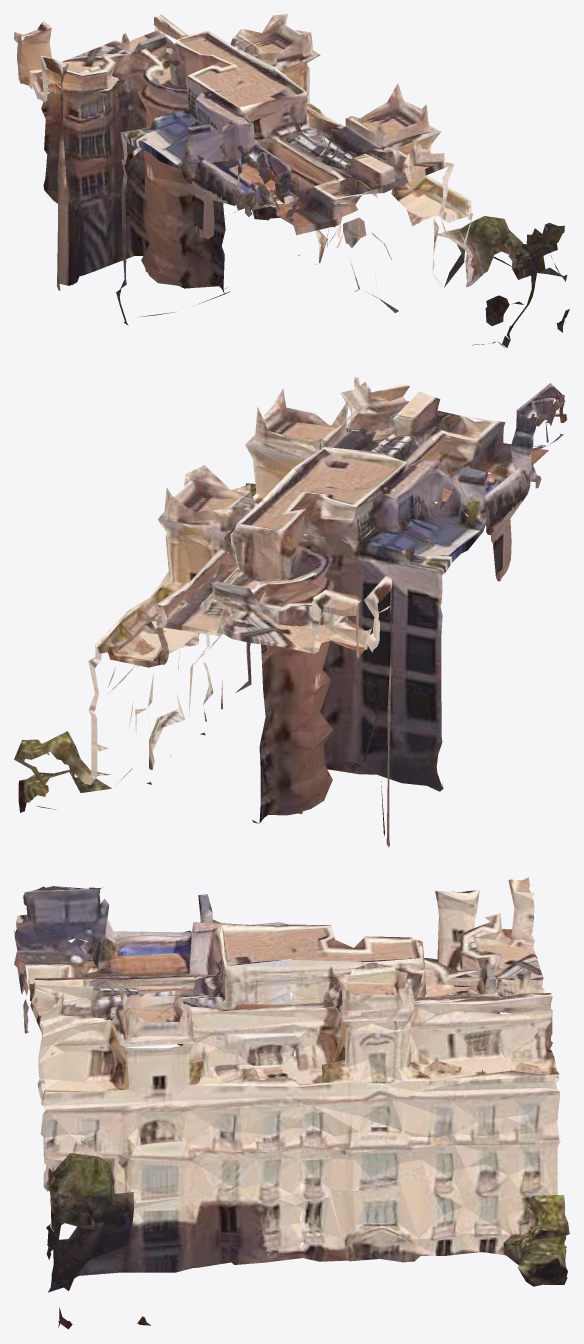
The picture shows the model from 3 angles, top to bottom: view 1: azimuth 30°, elevation 25°; view 2: azimuth 150°, elevation 25°; view 3: azimuth 270°, elevation 25°; orthographic projection. The views are drawn at different scales.
Parts seen in each view (by area): view 1: Mesh_0; view 2: Mesh_0; view 3: Mesh_0.
Boxes of the visible parts, x1,y1,x2,y2 form: Mesh_0: (14,14,569,347); Mesh_0: (14,377,567,847); Mesh_0: (14,877,569,1329).
Bounding box in the file's own units: 33.78 × 23.14 × 41.13.
1 material, 1 textured.
